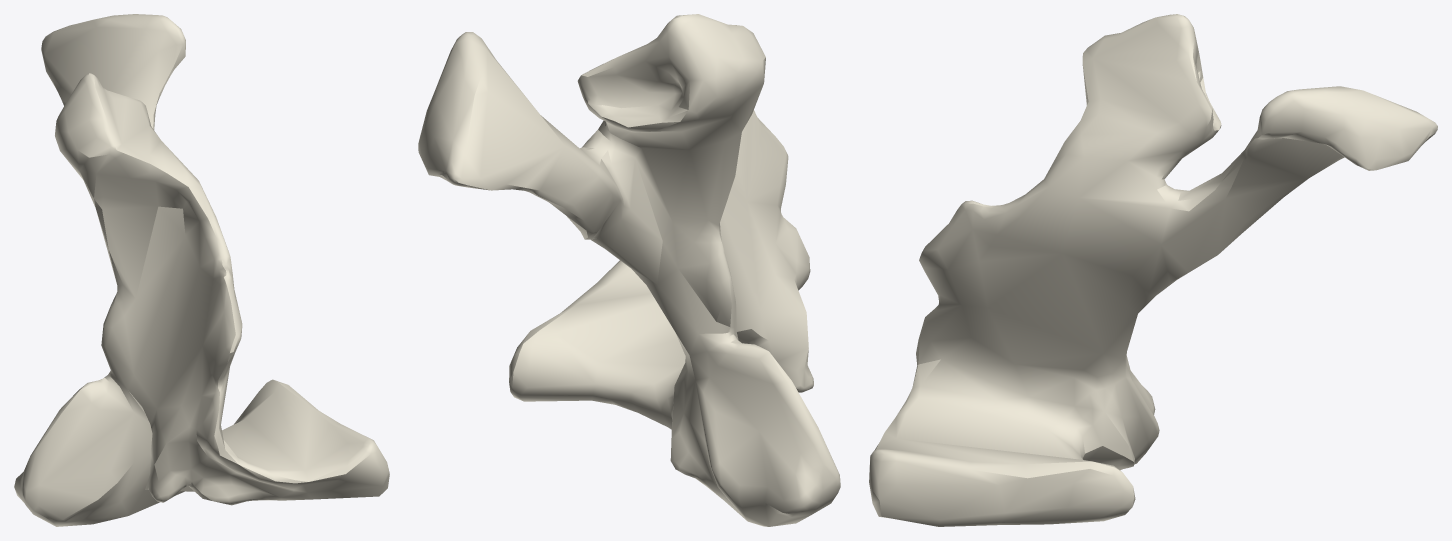
The model's file is fma53655_fj3379.glb.
3 renders of one model, left to right at view 1: azimuth 30°, elevation 25°; view 2: azimuth 150°, elevation 25°; view 3: azimuth 270°, elevation 25°, orthographic. The views are drawn at different scales.
Parts seen in each view (by area): view 1: FMA53655_FJ3379; view 2: FMA53655_FJ3379; view 3: FMA53655_FJ3379.
Boxes of the visible parts, x1,y1,x2,y2 form: FMA53655_FJ3379: (14, 14, 389, 526); FMA53655_FJ3379: (418, 14, 840, 526); FMA53655_FJ3379: (869, 14, 1437, 526).
Bounding box in the file's own units: 0.029 × 0.0429 × 0.0466.
